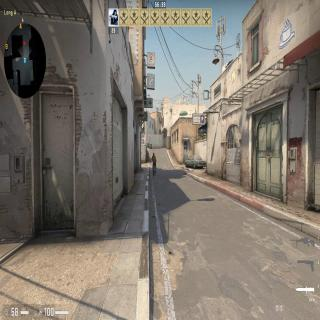T-Body: (151, 152, 157, 176)
T-Head: (153, 152, 155, 156)
